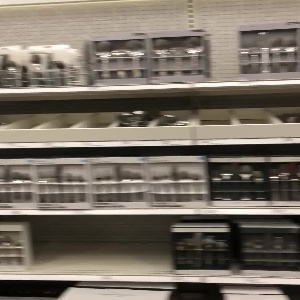void: (30, 212, 171, 275)
